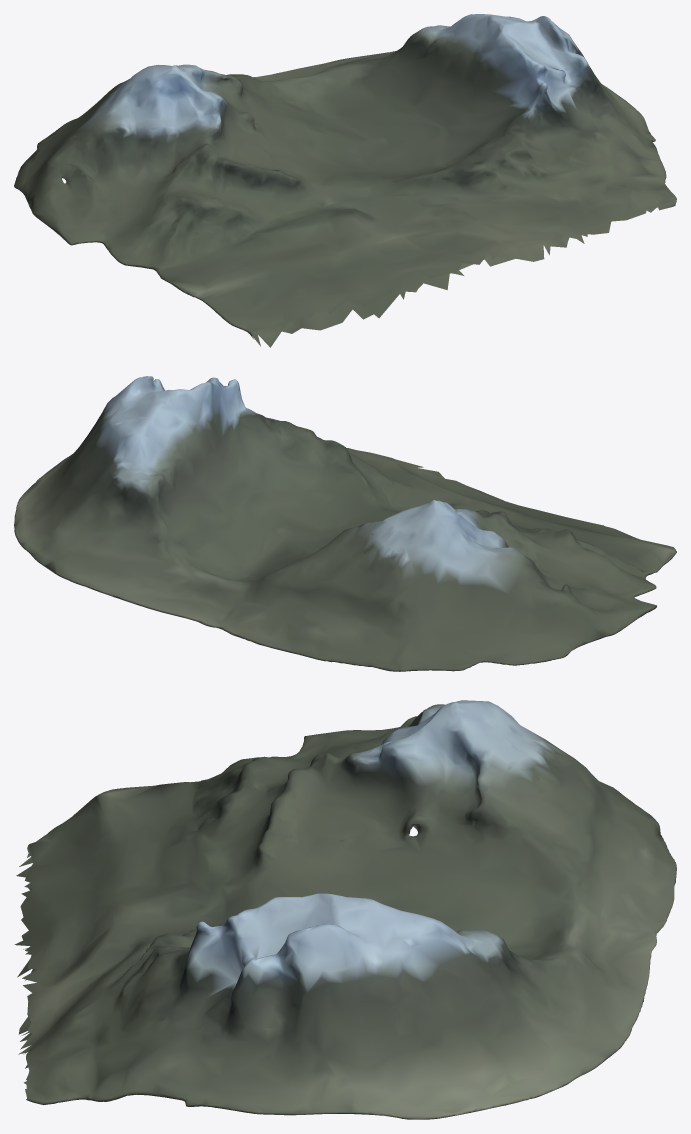
Rendered from faraway_mountains.glb.
The picture shows the model from 3 angles, top to bottom: view 1: azimuth 30°, elevation 25°; view 2: azimuth 150°, elevation 25°; view 3: azimuth 270°, elevation 25°; orthographic projection. The views are drawn at different scales.
Parts seen in each view (by area): view 1: faraway Lux mountains; view 2: faraway Lux mountains; view 3: faraway Lux mountains.
Part boxes in pixels (x1,y1,x2,y2): faraway Lux mountains: [14, 14, 676, 347]; faraway Lux mountains: [14, 376, 676, 671]; faraway Lux mountains: [14, 700, 676, 1119].
Bounding box in the file's own units: 1 × 0.2657 × 0.7316.
